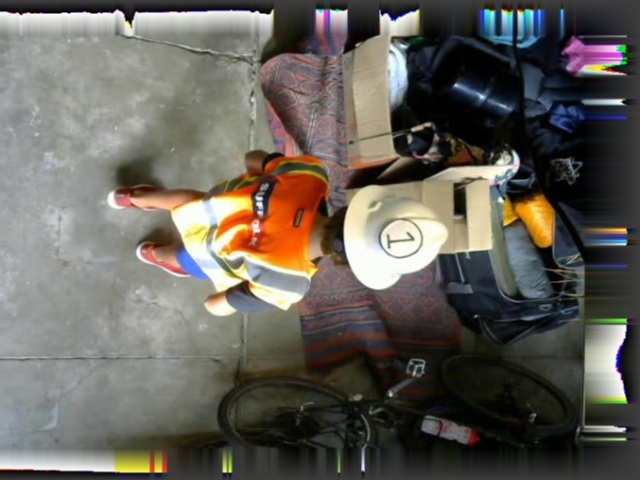one: (378, 217, 423, 257)
